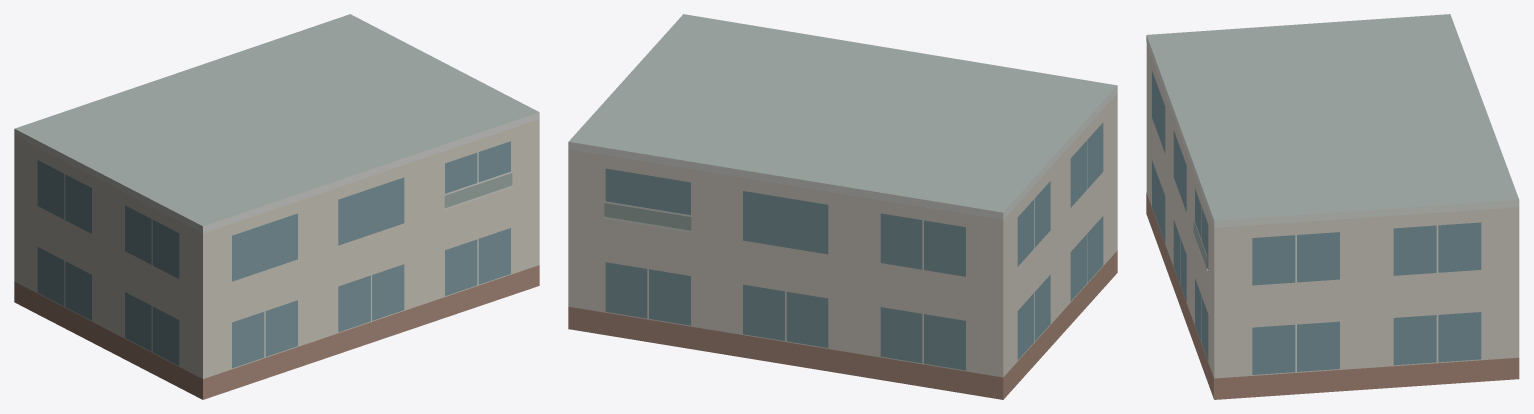
Rendered from survey-upis-32944978.glb.
3 renders of one model, left to right at view 1: azimuth 30°, elevation 25°; view 2: azimuth 150°, elevation 25°; view 3: azimuth 270°, elevation 25°, orthographic. The views are drawn at different scales.
Parts seen in each view (by area): view 1: survey-upis-32944978.tmp; view 2: survey-upis-32944978.tmp; view 3: survey-upis-32944978.tmp.
Part boxes in pixels (<box>): survey-upis-32944978.tmp: <box>14,14,539,399</box>; survey-upis-32944978.tmp: <box>568,14,1117,399</box>; survey-upis-32944978.tmp: <box>1146,14,1519,399</box>.
Size of the model in its own units: 15.12 by 6.1 by 11.52.
